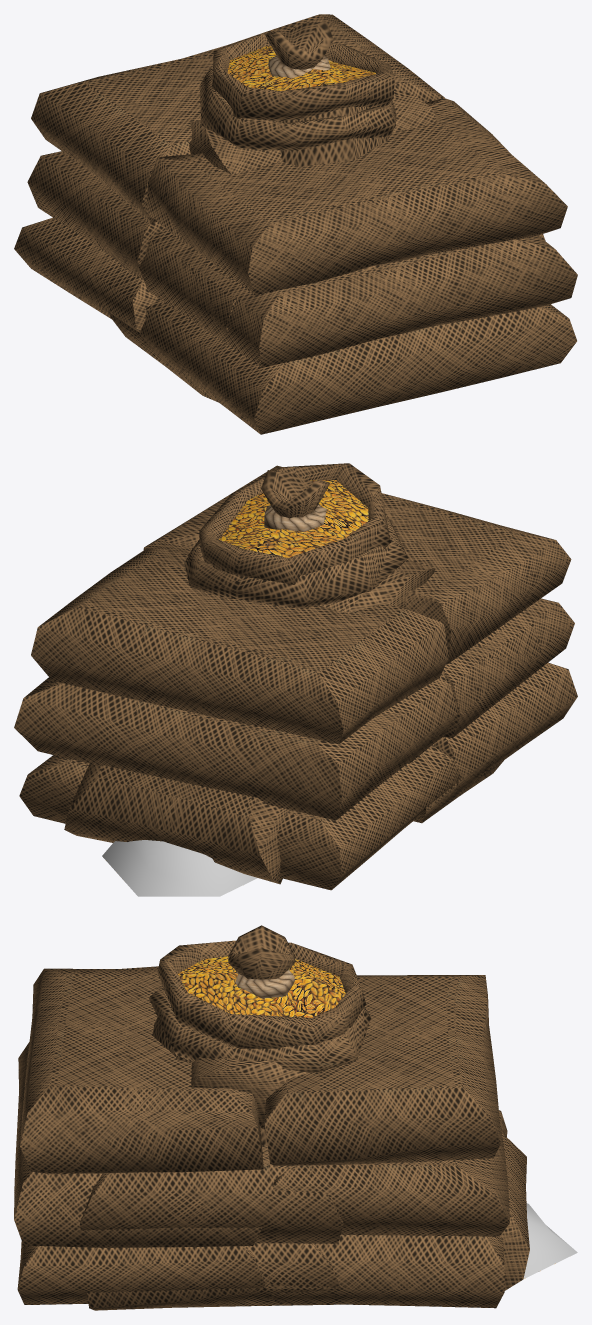
The model's file is sacks.fbx.
3 renders of one model, top to bottom at view 1: azimuth 30°, elevation 25°; view 2: azimuth 150°, elevation 25°; view 3: azimuth 270°, elevation 25°, orthographic. The views are drawn at different scales.
Visible parts, largest first — view 1: sack3, sack_open, sack_open.002, sack3.001, sack_closed; view 2: sack3, sack3.001, sack_open, sack_open.002, sack_open.003, sack_closed; view 3: sack3, sack3.001, sack_open, sack_open.002, sack_closed, sack_open.003.
Part boxes in pixels (bbox=[...]): sack3: bbox=[14, 14, 577, 434]; sack_open: bbox=[212, 34, 394, 166]; sack_open.002: bbox=[199, 67, 396, 150]; sack3.001: bbox=[110, 89, 545, 402]; sack_closed: bbox=[265, 21, 333, 78]; sack3: bbox=[14, 465, 577, 890]; sack3.001: bbox=[64, 539, 541, 884]; sack_open: bbox=[199, 463, 390, 608]; sack_open.002: bbox=[184, 515, 408, 608]; sack_open.003: bbox=[102, 840, 257, 896]; sack_closed: bbox=[261, 470, 329, 531]; sack3: bbox=[14, 966, 509, 1308]; sack3.001: bbox=[80, 1057, 529, 1310]; sack_open: bbox=[152, 940, 365, 1063]; sack_open.002: bbox=[148, 986, 371, 1145]; sack_closed: bbox=[228, 925, 294, 998]; sack_open.003: bbox=[523, 1203, 577, 1278].
Bounding box in the file's own units: 152 × 95.17 × 105.
